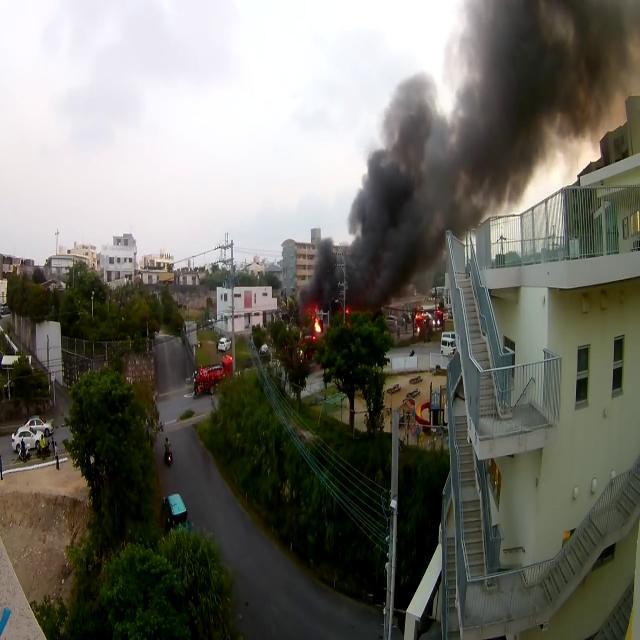Fire: (312, 320, 324, 334)
